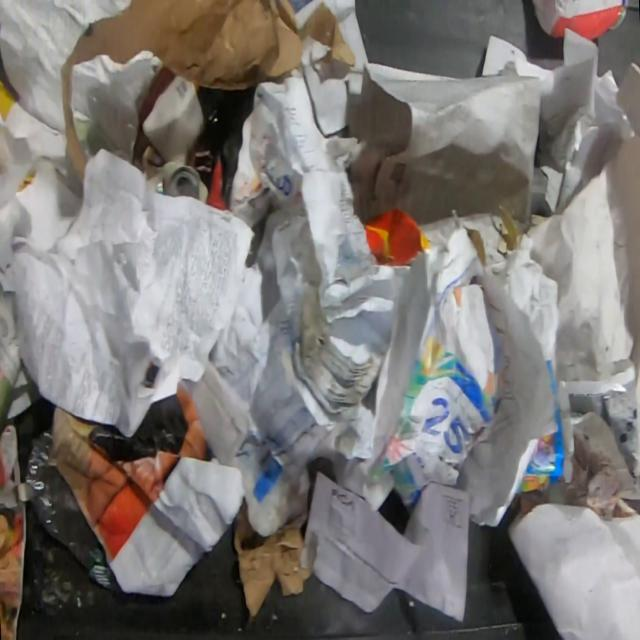cardboard: (234, 497, 312, 625)
metal: (157, 160, 209, 204)
rigid_plastic: (26, 432, 122, 594), (532, 0, 631, 41)
